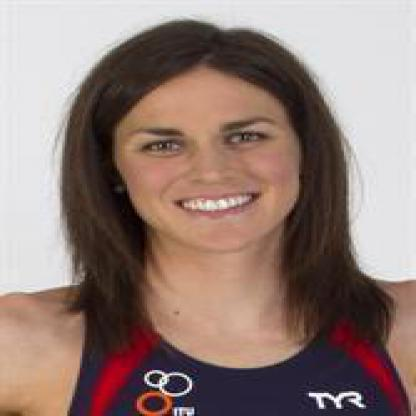long-hair: (25, 253, 403, 296)
